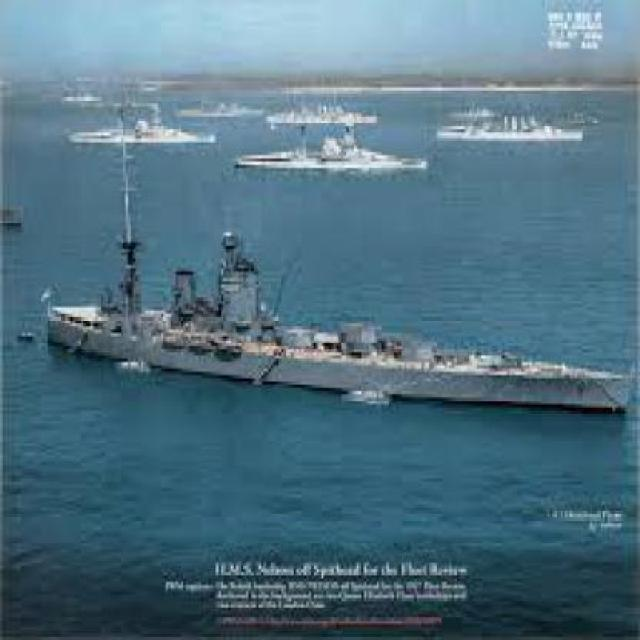warship2: (34, 211, 634, 448)
